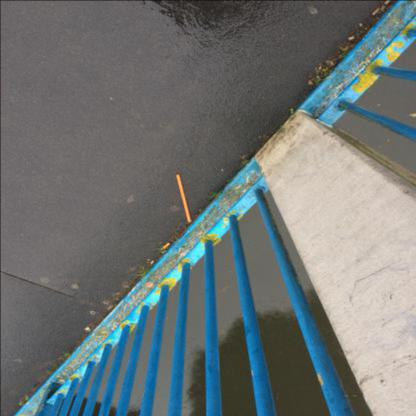Cigarette: (372, 7, 380, 15), (163, 243, 171, 249), (380, 6, 385, 12), (385, 0, 390, 4)
Straw: (176, 174, 191, 222)
